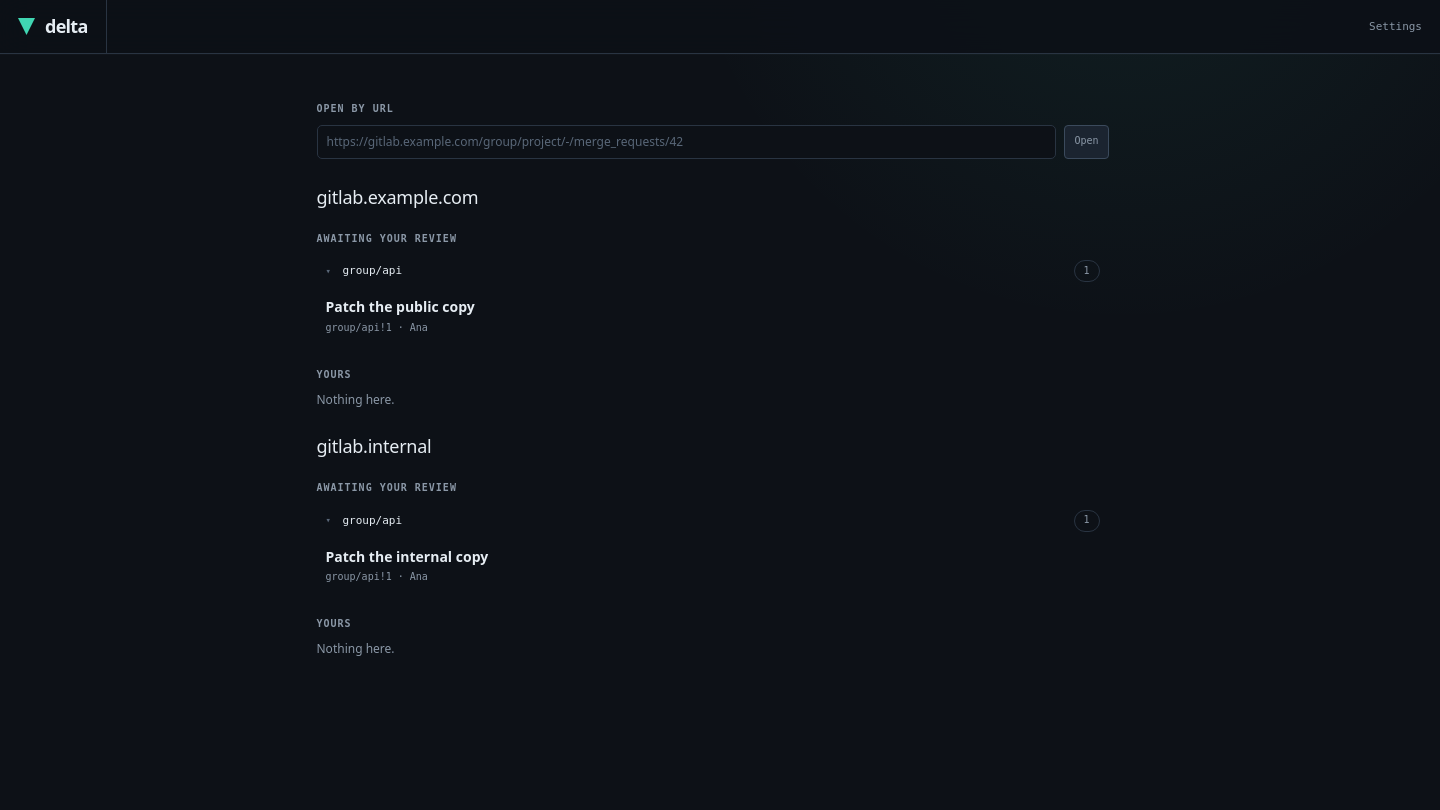
Test case: the same repository under two hosts collapses independently
Expected: the text "Patch the public copy" is shown, [326,297,475,318]
Click the button "▾ group/api 1" below "gitlab.example.com" at (372, 271), box [316,254,1108,288]
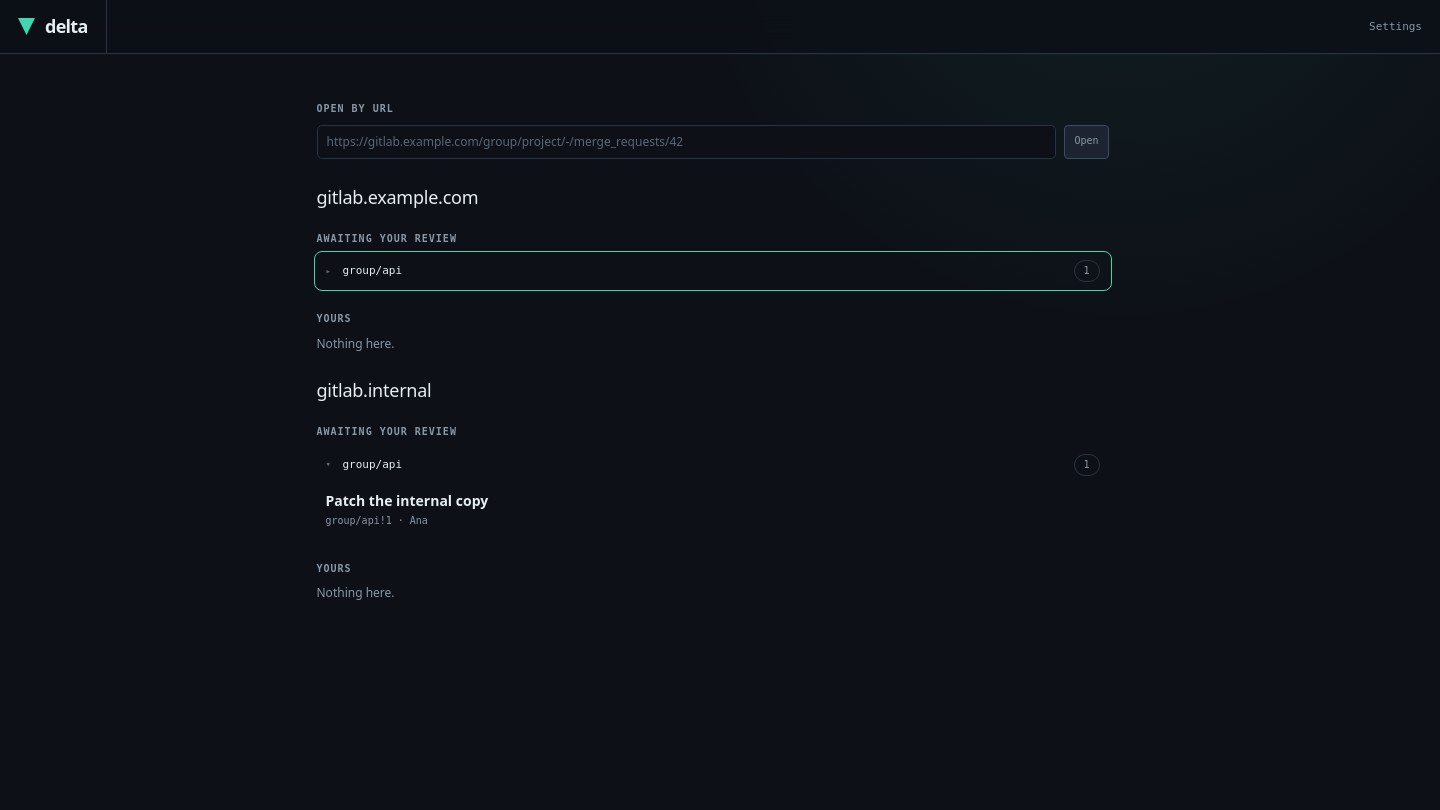
Expected: the text "Patch the internal copy" is shown, [326,491,488,511]
Expected: the link "Patch the public copy" is gone
